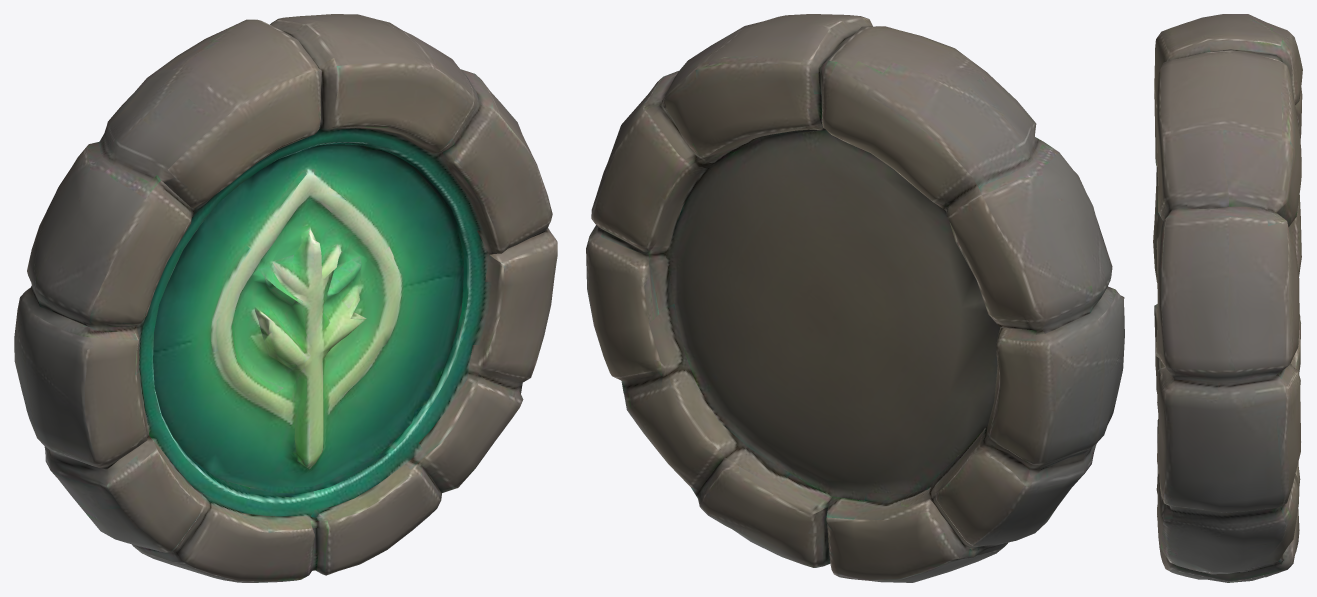
File: medal.glb
3 views of the same model, side by side, from view 1: azimuth 30°, elevation 25°; view 2: azimuth 150°, elevation 25°; view 3: azimuth 270°, elevation 25° (orthographic). The views are drawn at different scales.
Parts seen in each view (by area): view 1: tripo_node_c5b42123-cb0f-4dab-92e0-1b79090febeb; view 2: tripo_node_c5b42123-cb0f-4dab-92e0-1b79090febeb; view 3: tripo_node_c5b42123-cb0f-4dab-92e0-1b79090febeb.
Part boxes in pixels (box(x1,y1,x2,y2)): tripo_node_c5b42123-cb0f-4dab-92e0-1b79090febeb: box(14, 14, 557, 582); tripo_node_c5b42123-cb0f-4dab-92e0-1b79090febeb: box(586, 14, 1124, 582); tripo_node_c5b42123-cb0f-4dab-92e0-1b79090febeb: box(1153, 14, 1302, 582).
Size of the model in its own units: 0.9833 by 0.9891 by 0.2589.
1 material, 1 textured.
